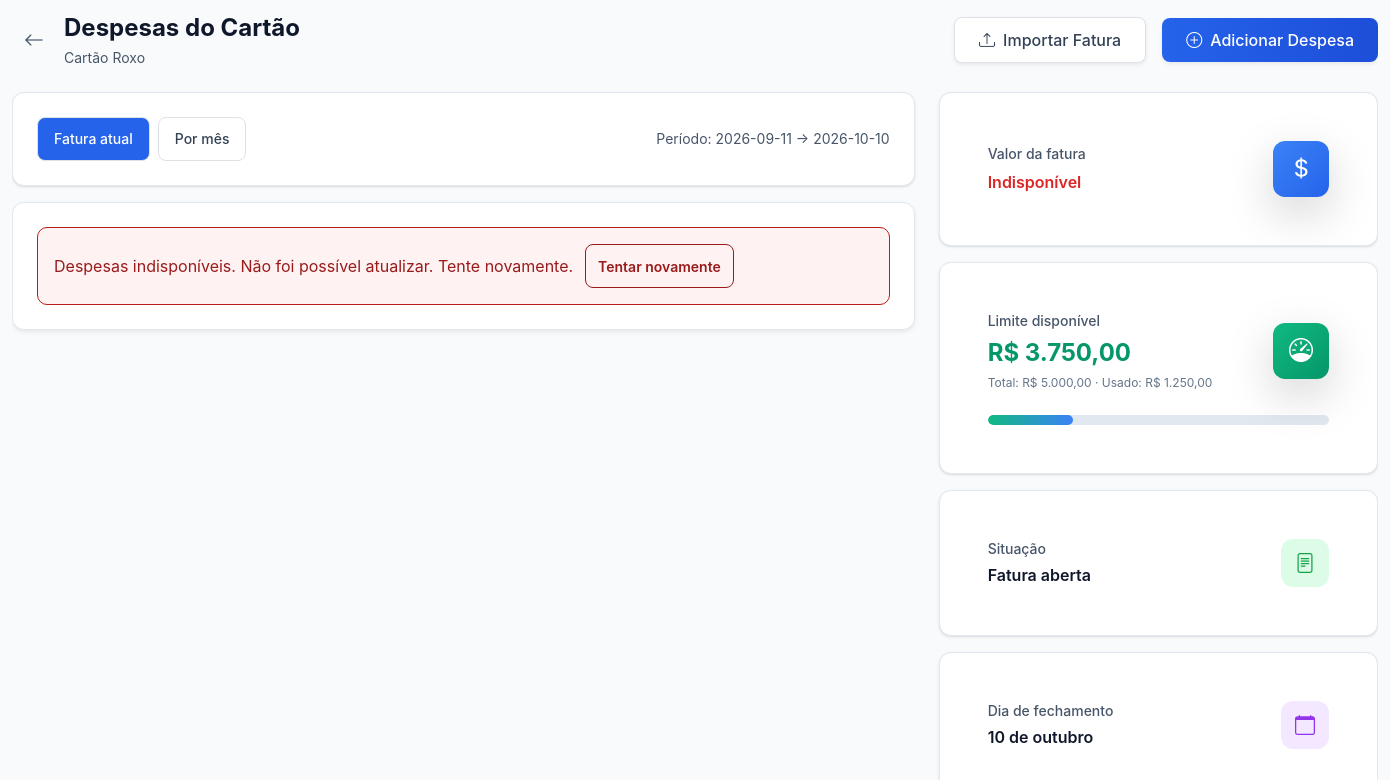
Test case: CreditCardDetail › em erro das despesas não mostra R$ 0,00 nem lista vazia, e permite tentar novamente
Check: the message shows "Despesas indisponíveis", box [54,256,240,276]
Check: the text "Indisponível" is shown, box [988,172,1081,192]
Click the button "Tentar novamente".
click(659, 266)  # box [585,244,734,288]
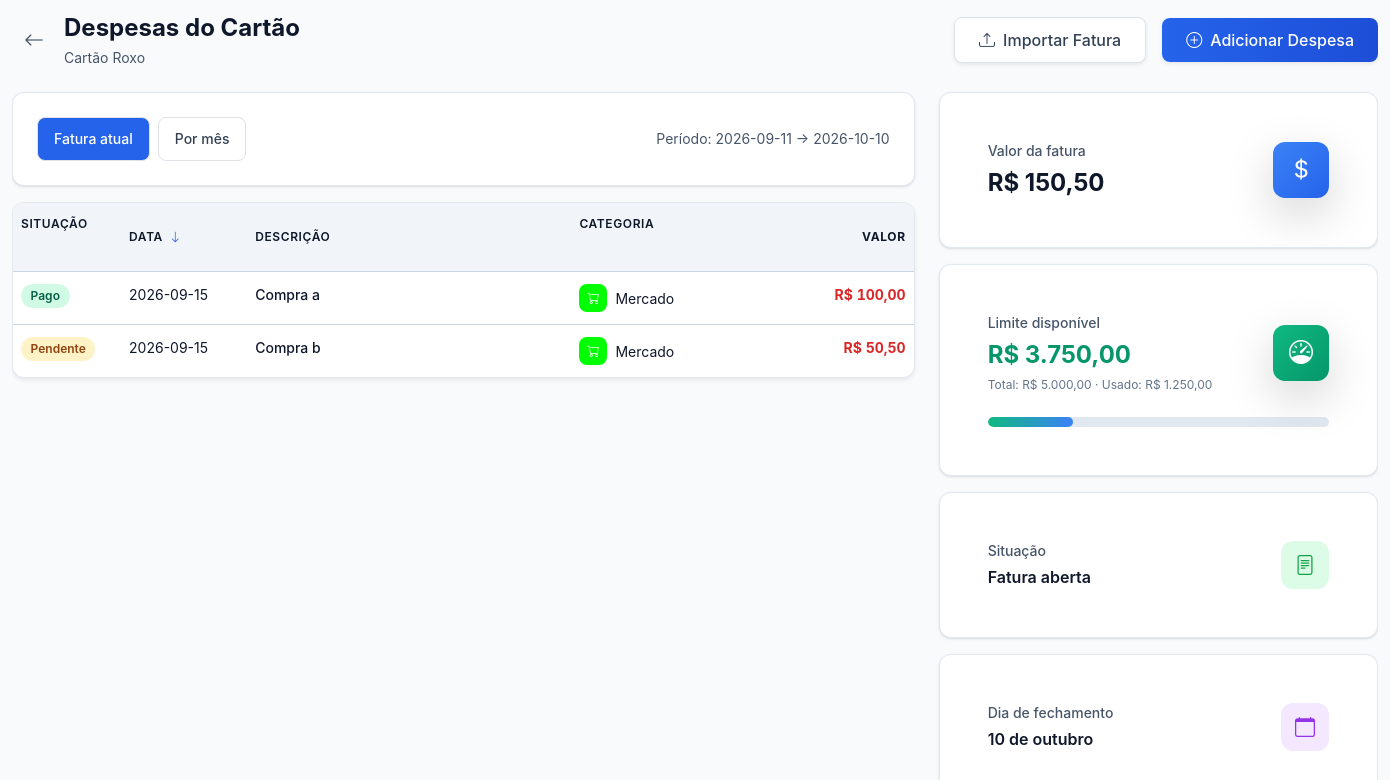
Check: the text "R$ 150,50" is shown, box [988,168,1105,197]
